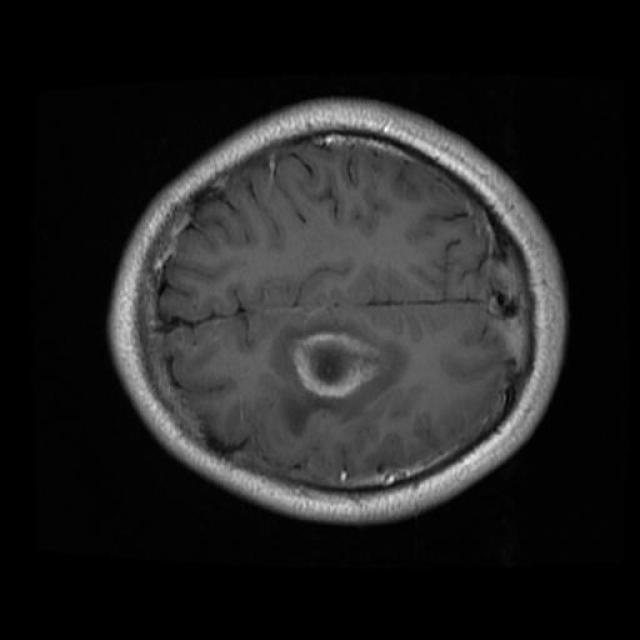Glioma: (290, 331, 380, 400)
